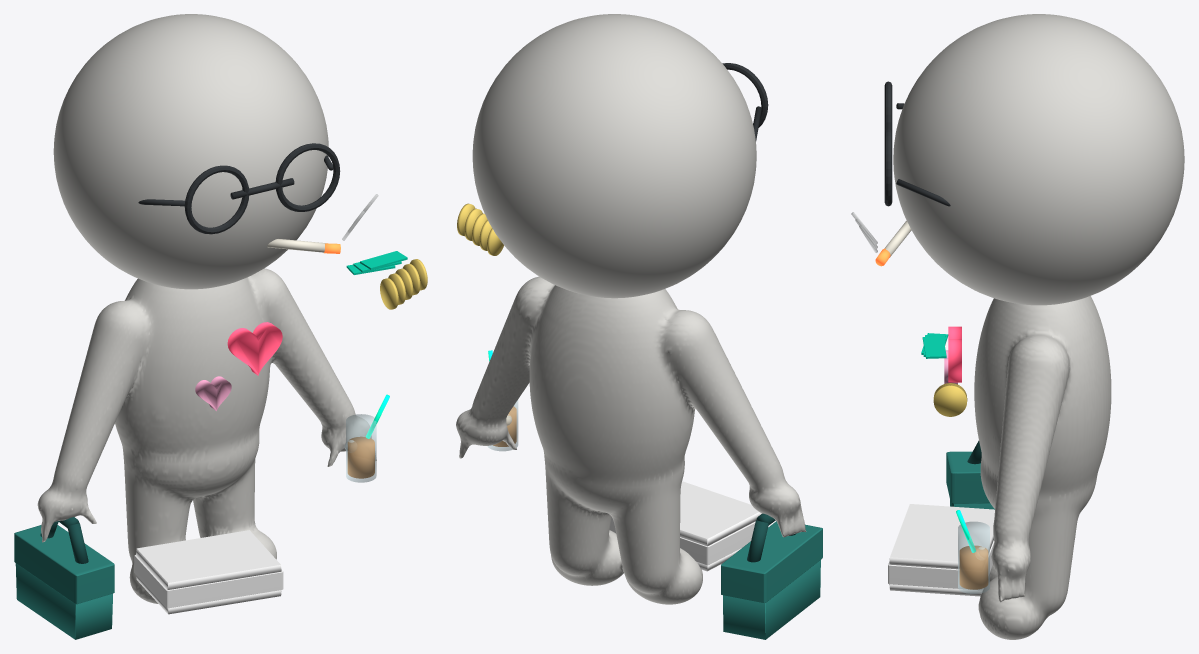
File: lifepath-character-kit.glb
The picture shows the model from 3 angles, left to right: view 1: azimuth 30°, elevation 25°; view 2: azimuth 150°, elevation 25°; view 3: azimuth 270°, elevation 25°; orthographic projection. The views are drawn at different scales.
Visible parts, largest first — view 1: head_big_round, body_one_piece_soft_silhouette, accessory_uab_book, accessory_work_briefcase, accessory_cubata_glass, accessory_relationship_heart, accessory_glasses_lens_left, accessory_glasses_lens_right, accessory_cubata_liquid, accessory_family_heart; view 2: head_big_round, body_one_piece_soft_silhouette, accessory_work_briefcase, accessory_uab_book, accessory_glasses_lens_left, accessory_work_briefcase_handle_right, accessory_cubata_glass; view 3: head_big_round, body_one_piece_soft_silhouette, accessory_uab_book, accessory_cubata_glass, accessory_work_briefcase, accessory_cubata_liquid, accessory_money_coin_5, accessory_relationship_heart, accessory_glasses_lens_right, accessory_money_bill_3.
Part boxes in pixels (bbox=[...]): head_big_round: bbox=[53, 14, 328, 289]; body_one_piece_soft_silhouette: bbox=[37, 268, 376, 603]; accessory_uab_book: bbox=[134, 530, 283, 614]; accessory_work_briefcase: bbox=[14, 525, 114, 639]; accessory_cubata_glass: bbox=[346, 414, 376, 482]; accessory_relationship_heart: bbox=[227, 322, 282, 375]; accessory_glasses_lens_left: bbox=[184, 165, 249, 234]; accessory_glasses_lens_right: bbox=[275, 143, 340, 211]; accessory_cubata_liquid: bbox=[347, 436, 374, 478]; accessory_family_heart: bbox=[195, 376, 231, 410]; head_big_round: bbox=[472, 14, 756, 298]; body_one_piece_soft_silhouette: bbox=[456, 276, 806, 604]; accessory_work_briefcase: bbox=[721, 521, 822, 639]; accessory_uab_book: bbox=[609, 481, 761, 571]; accessory_glasses_lens_left: bbox=[722, 63, 768, 127]; accessory_work_briefcase_handle_right: bbox=[747, 520, 768, 562]; accessory_cubata_glass: bbox=[487, 400, 518, 451]; head_big_round: bbox=[893, 14, 1184, 305]; body_one_piece_soft_silhouette: bbox=[974, 296, 1111, 639]; accessory_uab_book: bbox=[888, 504, 994, 596]; accessory_cubata_glass: bbox=[958, 521, 989, 593]; accessory_work_briefcase: bbox=[946, 451, 994, 509]; accessory_cubata_liquid: bbox=[959, 545, 988, 589]; accessory_money_coin_5: bbox=[933, 385, 967, 416]; accessory_relationship_heart: bbox=[948, 326, 961, 382]; accessory_glasses_lens_right: bbox=[884, 128, 892, 206]; accessory_money_bill_3: bbox=[922, 336, 946, 358].
Size of the model in its own units: 2.2 by 3.29 by 1.69.
